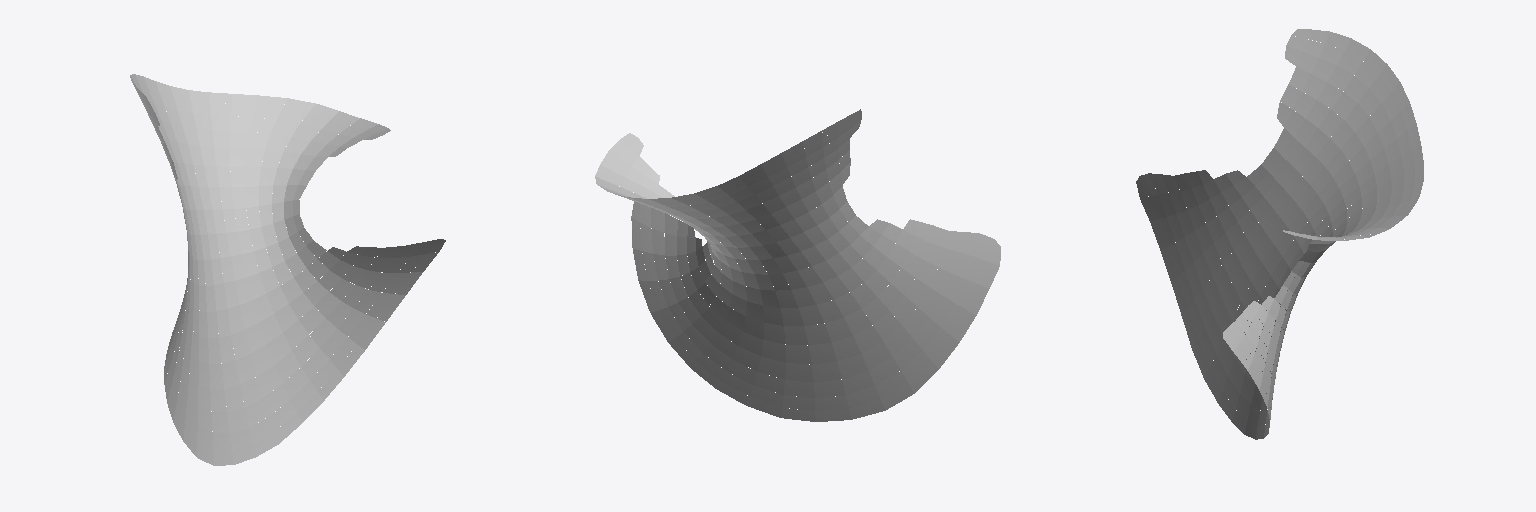
File: Example_2_inv_Panels.obj
3 views of the same model, side by side, from view 1: azimuth 30°, elevation 25°; view 2: azimuth 150°, elevation 25°; view 3: azimuth 270°, elevation 25° (orthographic).
Size of the model in its own units: 1.47 by 1.54 by 1.13.